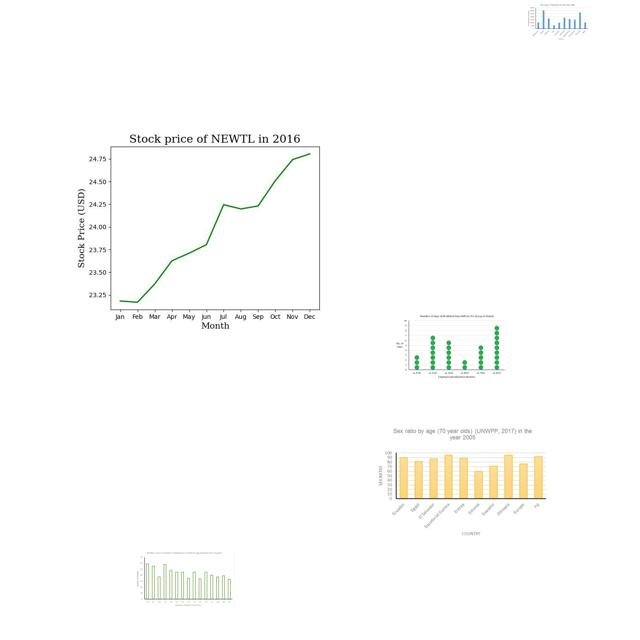Graph: (70, 121, 353, 333), (374, 426, 550, 539), (394, 312, 507, 382), (134, 550, 235, 609), (526, 3, 589, 40)
